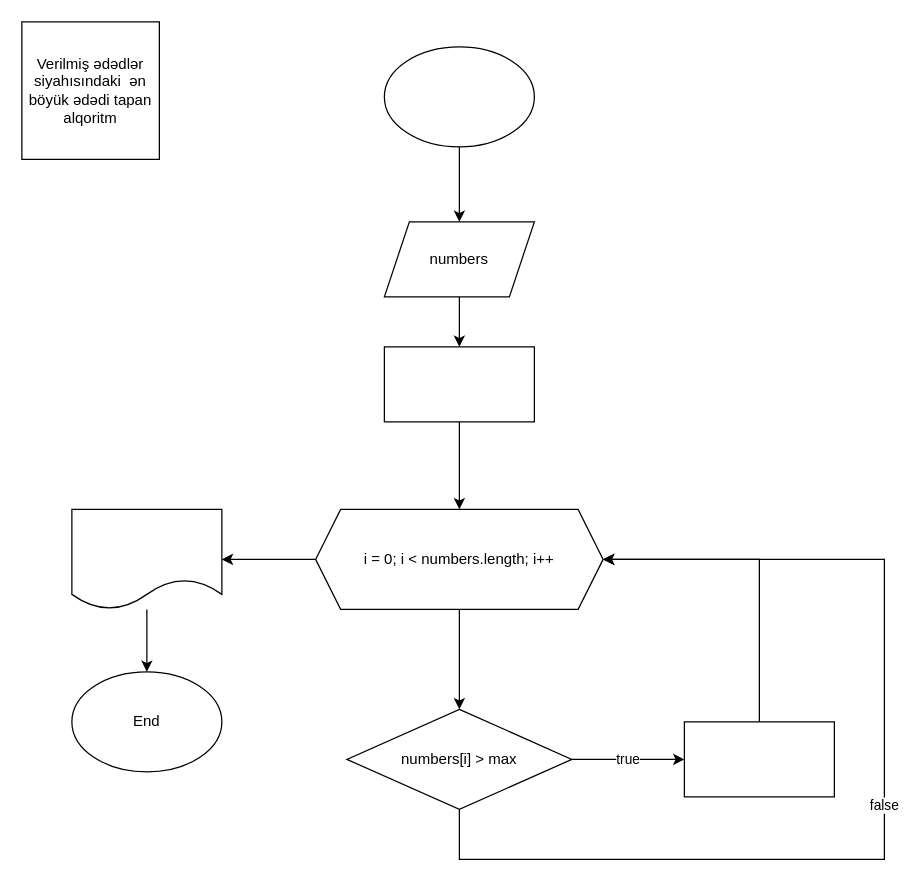
The diagram is 920 pixels wide and 891 high, and some of its shapes have lost their labels. The shapes that lost their labels are listed below. From the top down, each one's centre as x and y in pixels, then its label:
At point (458, 384): "max = numbers[0]".
At point (146, 558): "max".
At point (758, 759): "max = numbers[i]".
